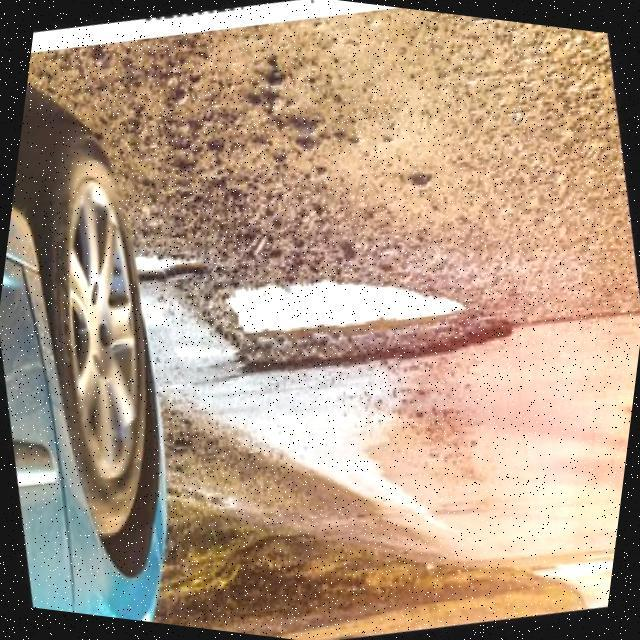Pothole: (188, 250, 511, 375)
